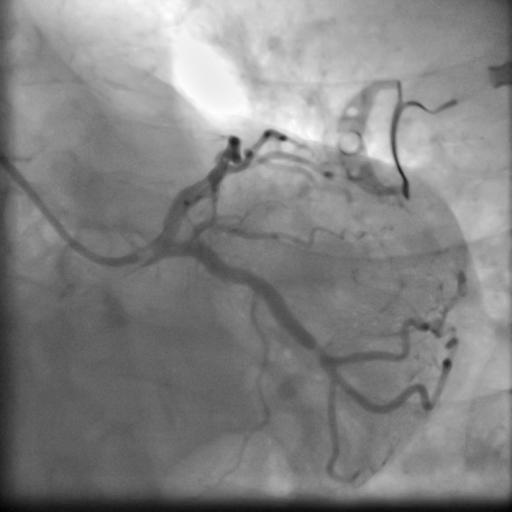Stenosis: (310, 337, 328, 363)
